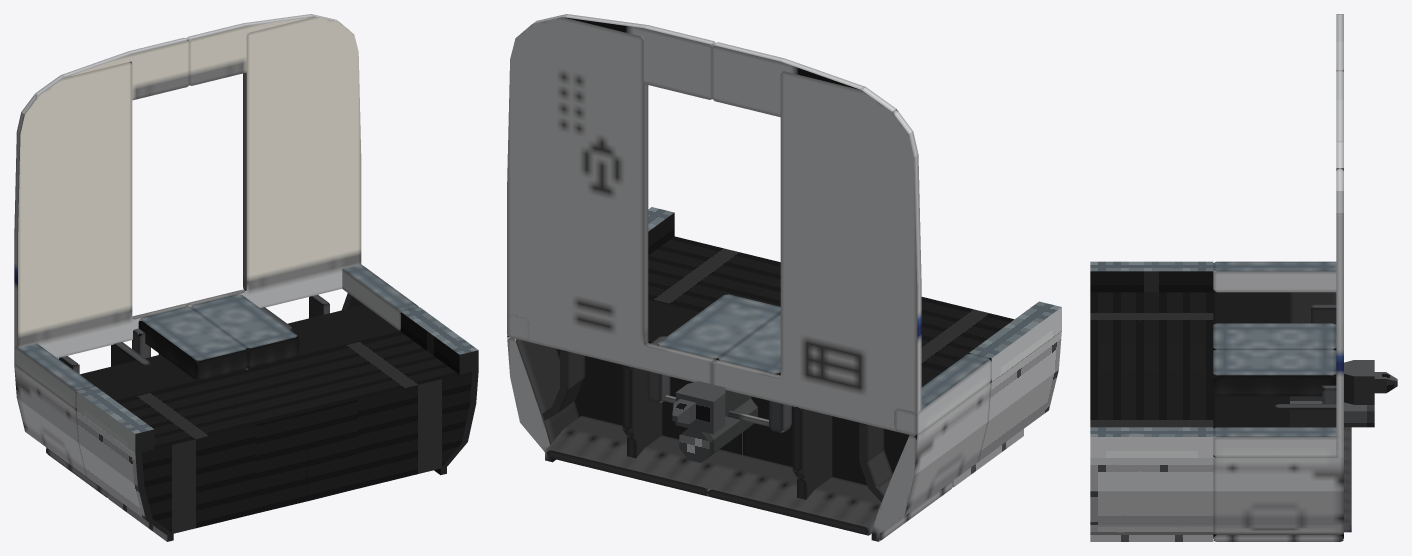
The model's file is world.obj.
The picture shows the model from 3 angles, left to right: view 1: azimuth 30°, elevation 25°; view 2: azimuth 150°, elevation 25°; view 3: azimuth 270°, elevation 25°; orthographic projection. The views are drawn at different scales.
Parts seen in each view (by area): view 1: 端面1, 裙板-仪器舱靠近端面R, 裙板-仪器舱靠近端面L, 裙板-仪器舱R, 地板-中间, 端面2, 裙板-仪器舱L, 防雪风挡骨架, 防雪风挡骨架2; view 2: 端面1, 裙板-仪器舱R, 防雪风挡, 裙板-仪器舱靠近端面R, 裙板-仪器舱L, 端面2, 裙板-仪器舱靠近端面L, 地板-中间, 防雪风挡骨架, 防雪风挡骨架2, 半自动车钩, cylinder (+1 smaller); view 3: 裙板-仪器舱靠近端面L, 裙板-仪器舱L, 裙板-仪器舱靠近端面R, 地板-中间, 裙板-仪器舱R, 端面1, 半自动车钩, 防雪风挡骨架, 端面2, 防雪风挡, cylinder, 防雪风挡骨架2 (+1 smaller).
Boxes of the visible parts, box(x1,y1,x2,y2) form: 端面1: box(14, 14, 361, 365); 裙板-仪器舱靠近端面R: box(76, 369, 306, 541); 裙板-仪器舱靠近端面L: box(249, 307, 478, 501); 裙板-仪器舱R: box(14, 343, 247, 497); 地板-中间: box(138, 294, 299, 380); 端面2: box(62, 14, 313, 100); 裙板-仪器舱L: box(246, 264, 418, 369); 防雪风挡骨架: box(111, 307, 293, 366); 防雪风挡骨架2: box(58, 295, 329, 374); 端面1: box(507, 14, 921, 436); 裙板-仪器舱R: box(743, 353, 991, 541); 防雪风挡: box(546, 415, 881, 535); 裙板-仪器舱靠近端面R: box(921, 297, 1061, 486); 裙板-仪器舱L: box(507, 298, 742, 462); 端面2: box(564, 14, 864, 117); 裙板-仪器舱靠近端面L: box(648, 207, 780, 311); 地板-中间: box(658, 294, 780, 375); 防雪风挡骨架: box(622, 335, 832, 499); 防雪风挡骨架2: box(542, 349, 892, 501); 半自动车钩: box(675, 381, 752, 434); cylinder: box(679, 398, 757, 462); 裙板-仪器舱靠近端面L: box(1090, 370, 1213, 541); 裙板-仪器舱L: box(1213, 395, 1343, 541); 裙板-仪器舱靠近端面R: box(1090, 261, 1213, 370); 地板-中间: box(1213, 323, 1336, 396); 裙板-仪器舱R: box(1213, 261, 1336, 324); 端面1: box(1336, 14, 1343, 457); 半自动车钩: box(1290, 360, 1374, 404); 防雪风挡骨架: box(1275, 404, 1336, 427); 端面2: box(1336, 14, 1343, 142); 防雪风挡: box(1344, 427, 1351, 532); cylinder: box(1290, 401, 1374, 427); 防雪风挡骨架2: box(1311, 304, 1336, 324).
Bounding box in the file's own units: 3.38 × 3.59 × 2.5.
